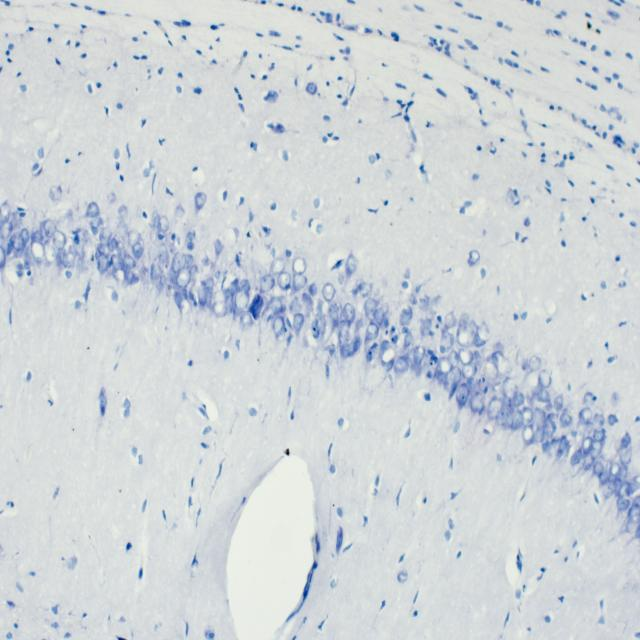neuron: (456, 320, 479, 348), (417, 354, 437, 386), (546, 437, 566, 462), (444, 367, 462, 393), (173, 290, 191, 315), (222, 270, 238, 298), (614, 464, 628, 496), (523, 370, 542, 393), (492, 350, 509, 375), (340, 338, 361, 358), (506, 408, 524, 430), (320, 314, 334, 342), (502, 377, 519, 400), (339, 318, 351, 350), (620, 432, 632, 464), (394, 352, 409, 377), (482, 361, 499, 383), (58, 209, 74, 232), (150, 256, 163, 284), (164, 231, 180, 253), (171, 250, 187, 272), (440, 329, 454, 354), (487, 396, 502, 419), (496, 406, 513, 426), (44, 238, 56, 266), (9, 230, 24, 252), (30, 240, 45, 262), (176, 266, 191, 288), (235, 290, 250, 312), (364, 298, 378, 321), (470, 391, 484, 414), (259, 274, 275, 294), (602, 479, 618, 499), (624, 514, 640, 534), (91, 216, 104, 240), (260, 307, 273, 331), (534, 406, 547, 430), (52, 230, 66, 252), (329, 302, 343, 324), (477, 320, 491, 342), (544, 413, 556, 438), (556, 435, 568, 460), (269, 257, 286, 274), (121, 252, 137, 270), (209, 290, 227, 306), (458, 348, 474, 366), (343, 302, 356, 324), (345, 254, 358, 276), (456, 383, 469, 405), (627, 496, 640, 518), (616, 481, 631, 500), (0, 220, 14, 240), (412, 345, 426, 365), (522, 424, 534, 447), (238, 314, 254, 331), (292, 274, 308, 291), (112, 267, 127, 285), (437, 356, 452, 374), (366, 322, 380, 341), (538, 370, 552, 389), (56, 248, 67, 272), (9, 211, 22, 231), (178, 253, 194, 269), (535, 388, 551, 404), (212, 300, 227, 317), (292, 257, 307, 274), (0, 200, 11, 223), (86, 200, 100, 218), (273, 316, 285, 337), (467, 250, 481, 268), (520, 406, 534, 424), (316, 308, 326, 333), (165, 272, 174, 299), (197, 284, 208, 306), (44, 218, 56, 238), (302, 292, 314, 312), (366, 342, 378, 362), (400, 306, 412, 326), (462, 362, 477, 378), (590, 440, 602, 460), (127, 229, 141, 246), (278, 272, 292, 289), (270, 297, 283, 315), (322, 283, 335, 301), (152, 210, 162, 233), (610, 461, 620, 484), (195, 191, 207, 210), (478, 374, 490, 393), (444, 312, 458, 328), (582, 392, 596, 408), (115, 221, 128, 238), (157, 216, 170, 233), (158, 244, 169, 264), (186, 230, 197, 250), (373, 307, 384, 327), (49, 184, 61, 202), (99, 228, 111, 246), (290, 296, 302, 314), (358, 282, 372, 297), (467, 377, 477, 398), (578, 408, 592, 423), (616, 497, 630, 512), (594, 408, 605, 427), (31, 225, 44, 241), (190, 264, 198, 290), (238, 278, 251, 294), (132, 242, 144, 259), (420, 318, 432, 335), (529, 354, 541, 371), (570, 449, 582, 466), (379, 339, 389, 359), (583, 436, 593, 456), (204, 285, 213, 307), (582, 454, 593, 472), (111, 254, 123, 270), (533, 426, 545, 442), (98, 254, 108, 273), (448, 349, 458, 368), (293, 314, 304, 331), (513, 390, 524, 407), (553, 395, 564, 412), (213, 238, 223, 256), (420, 294, 430, 312), (560, 412, 572, 427), (174, 204, 185, 220), (7, 244, 16, 263), (64, 251, 74, 268), (118, 203, 128, 220), (108, 238, 118, 254), (474, 350, 482, 370), (458, 312, 469, 326), (403, 333, 413, 348), (311, 318, 318, 339), (149, 228, 158, 244), (610, 391, 619, 407), (21, 227, 28, 247), (592, 430, 606, 440), (594, 462, 604, 476), (0, 245, 6, 268), (155, 281, 164, 296), (204, 277, 215, 289), (96, 243, 106, 256), (608, 414, 618, 427), (126, 270, 134, 286), (24, 246, 31, 264), (599, 470, 608, 484), (380, 302, 390, 314), (309, 282, 317, 295), (117, 240, 124, 252)
